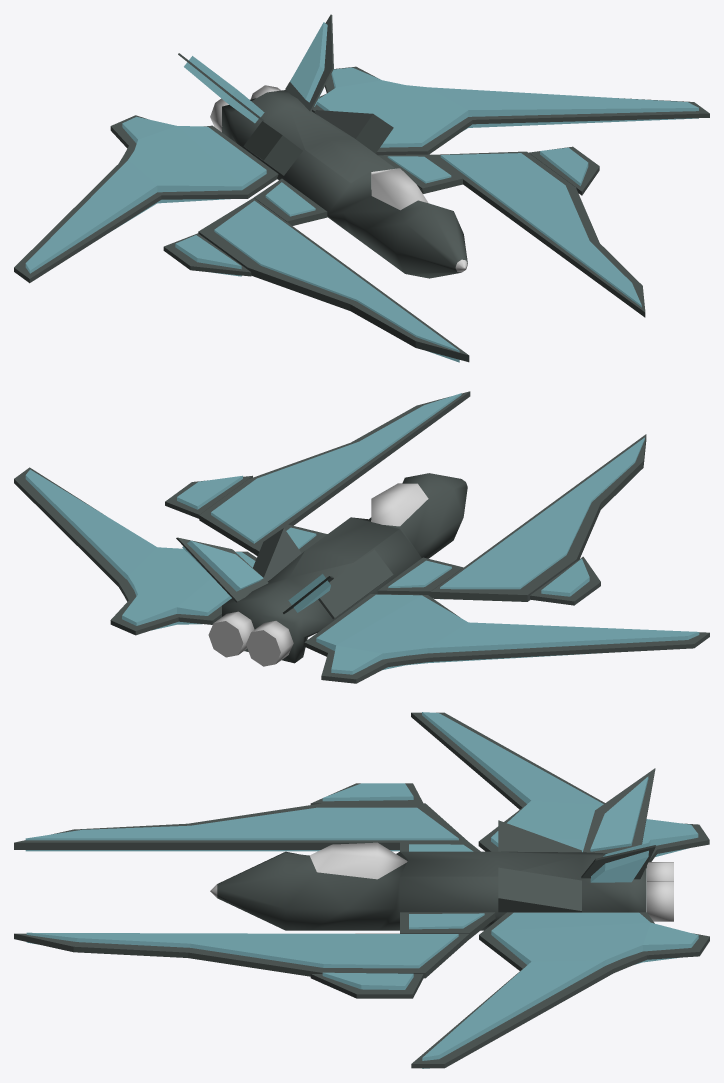
Rendered from HarbingerOfDeath.fbx.
The picture shows the model from 3 angles, top to bottom: view 1: azimuth 30°, elevation 25°; view 2: azimuth 150°, elevation 25°; view 3: azimuth 270°, elevation 25°; orthographic projection. The views are drawn at different scales.
Visible parts, largest first — view 1: Plane1_LOD0; view 2: Plane1_LOD0; view 3: Plane1_LOD0.
Boxes of the visible parts, x1,y1,x2,y2 form: Plane1_LOD0: (14,14,709,362); Plane1_LOD0: (14,391,709,683); Plane1_LOD0: (14,712,709,1068).
Size of what is drawn, in the model's own units: 1322 by 218 by 1109.
